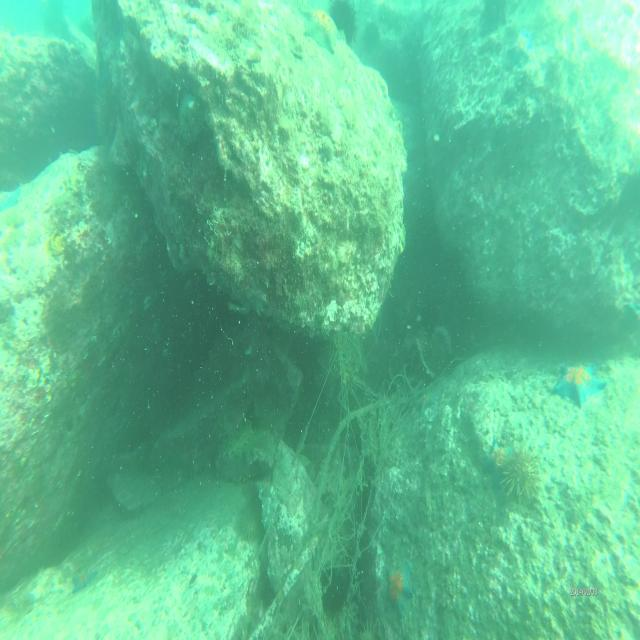echinus: (505, 449, 540, 508), (239, 506, 260, 540)
starfish: (556, 354, 608, 410), (302, 6, 342, 58), (383, 561, 413, 618), (484, 435, 514, 484), (508, 30, 532, 68), (72, 568, 96, 595)
